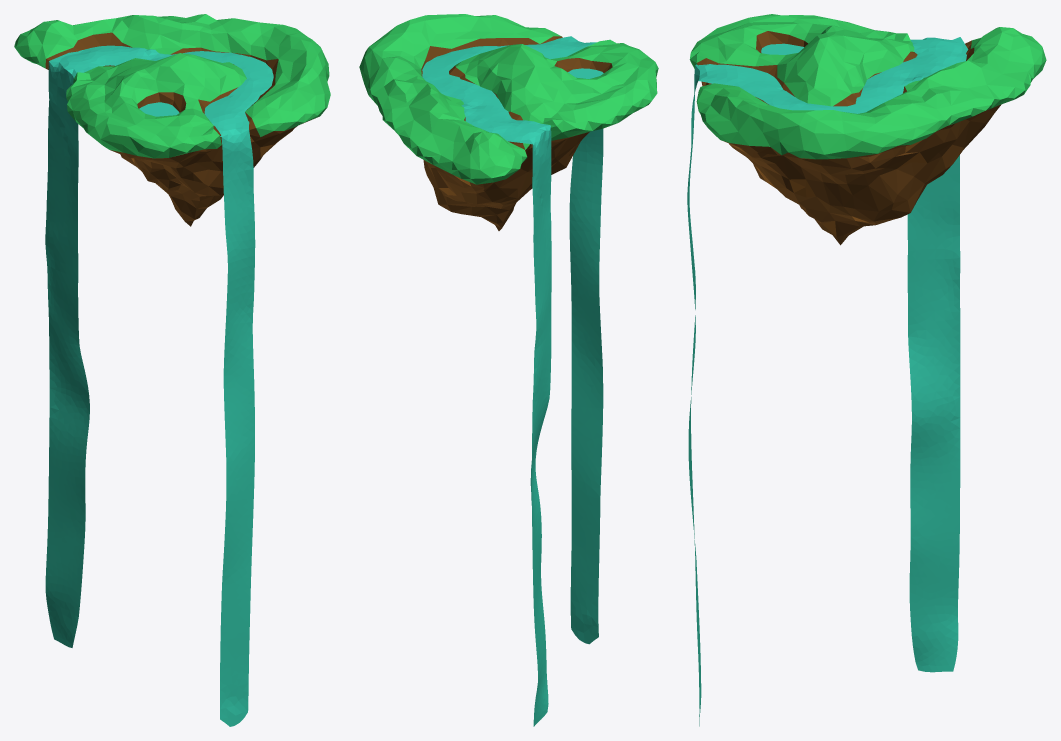
Rendered from HeavensOrchidModel.fbx.
The picture shows the model from 3 angles, left to right: view 1: azimuth 30°, elevation 25°; view 2: azimuth 150°, elevation 25°; view 3: azimuth 270°, elevation 25°; orthographic projection. The views are drawn at different scales.
Visible parts, largest first — view 1: River, Island2Decimate; view 2: Island2Decimate, River; view 3: Island2Decimate, River.
Boxes of the visible parts, x1=… form: River: x1=45, y1=45, x2=273, y2=726; Island2Decimate: x1=14, y1=14, x2=330, y2=226; Island2Decimate: x1=359, y1=14, x2=658, y2=230; River: x1=422, y1=36, x2=603, y2=726; Island2Decimate: x1=689, y1=14, x2=1046, y2=245; River: x1=687, y1=37, x2=968, y2=726.
Bounding box in the file's own units: 414 × 989 × 465.
